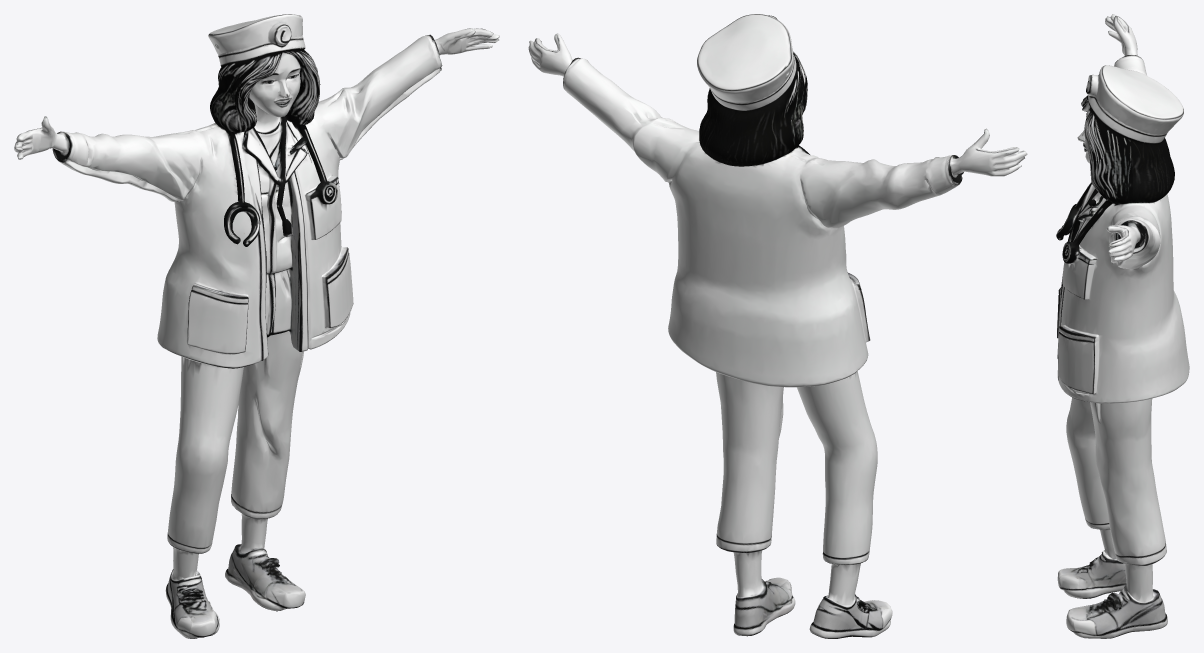
The model's file is marta_vance.glb.
The picture shows the model from 3 angles, left to right: view 1: azimuth 30°, elevation 25°; view 2: azimuth 150°, elevation 25°; view 3: azimuth 270°, elevation 25°; orthographic projection. The views are drawn at different scales.
Parts seen in each view (by area): view 1: tripo_node_776266b7-776b-42e2-8e2f-781570f9c273; view 2: tripo_node_776266b7-776b-42e2-8e2f-781570f9c273; view 3: tripo_node_776266b7-776b-42e2-8e2f-781570f9c273.
Boxes of the visible parts, <box> form: tripo_node_776266b7-776b-42e2-8e2f-781570f9c273: <box>14,14,499,638</box>; tripo_node_776266b7-776b-42e2-8e2f-781570f9c273: <box>528,14,1027,638</box>; tripo_node_776266b7-776b-42e2-8e2f-781570f9c273: <box>1056,14,1189,638</box>.
Bounding box in the file's own units: 0.8489 × 0.9789 × 0.2101.
Materials: 1 (1 with a texture image).
